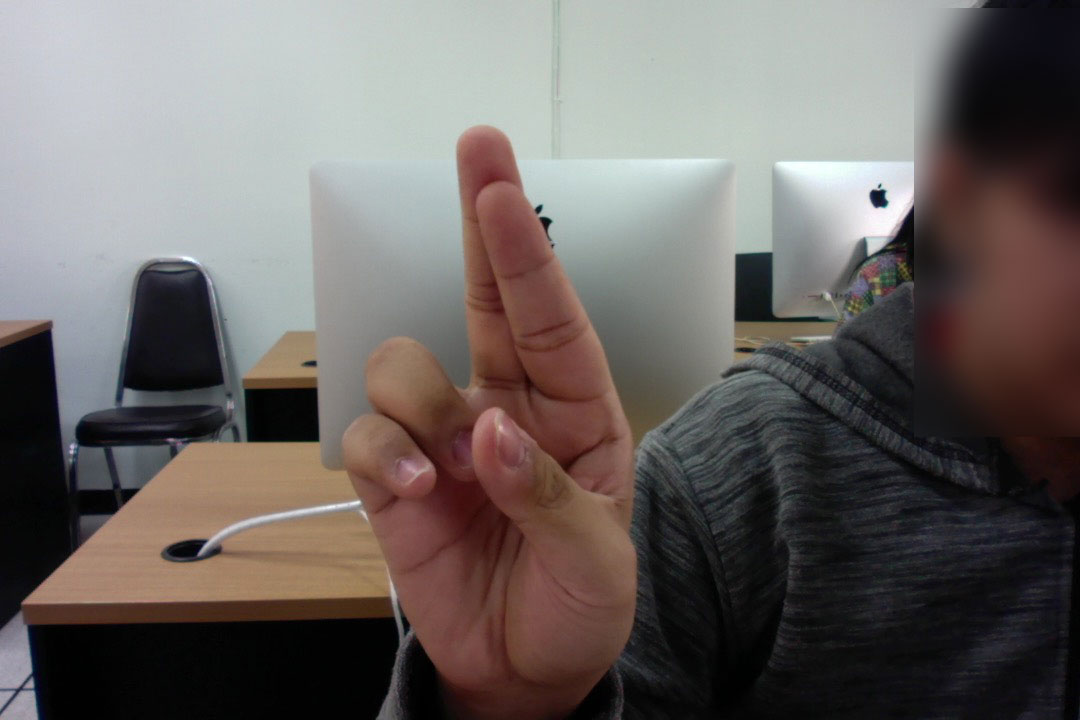rao: (332, 119, 650, 702)
